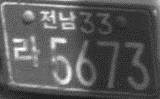3: (123, 39, 150, 91), (95, 11, 113, 36), (77, 10, 94, 34)
5: (48, 35, 72, 84)
6: (74, 37, 98, 88)
7: (96, 38, 121, 90)
라: (11, 35, 40, 67)
전남_O: (40, 8, 76, 31)
